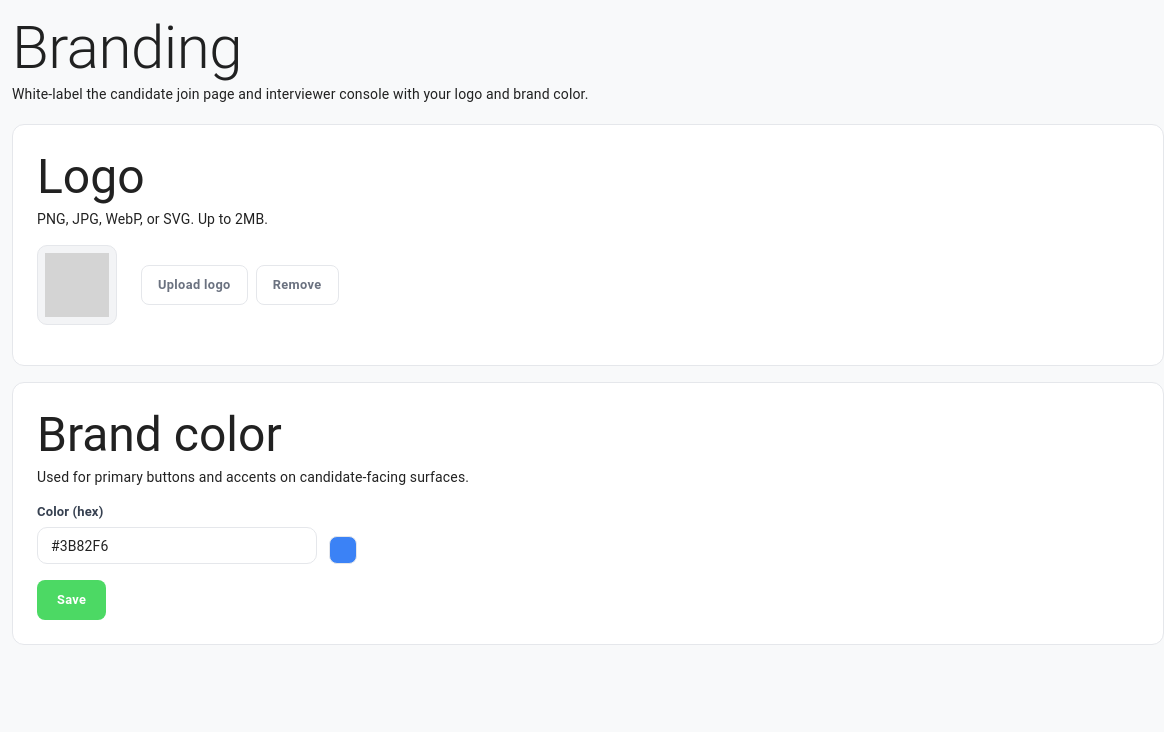
Test: BrandingPage › remove throwing falls back to the default error
This screenshot has width=1164, height=732.
Click the button "Remove": (297, 285) [256, 265, 338, 305]
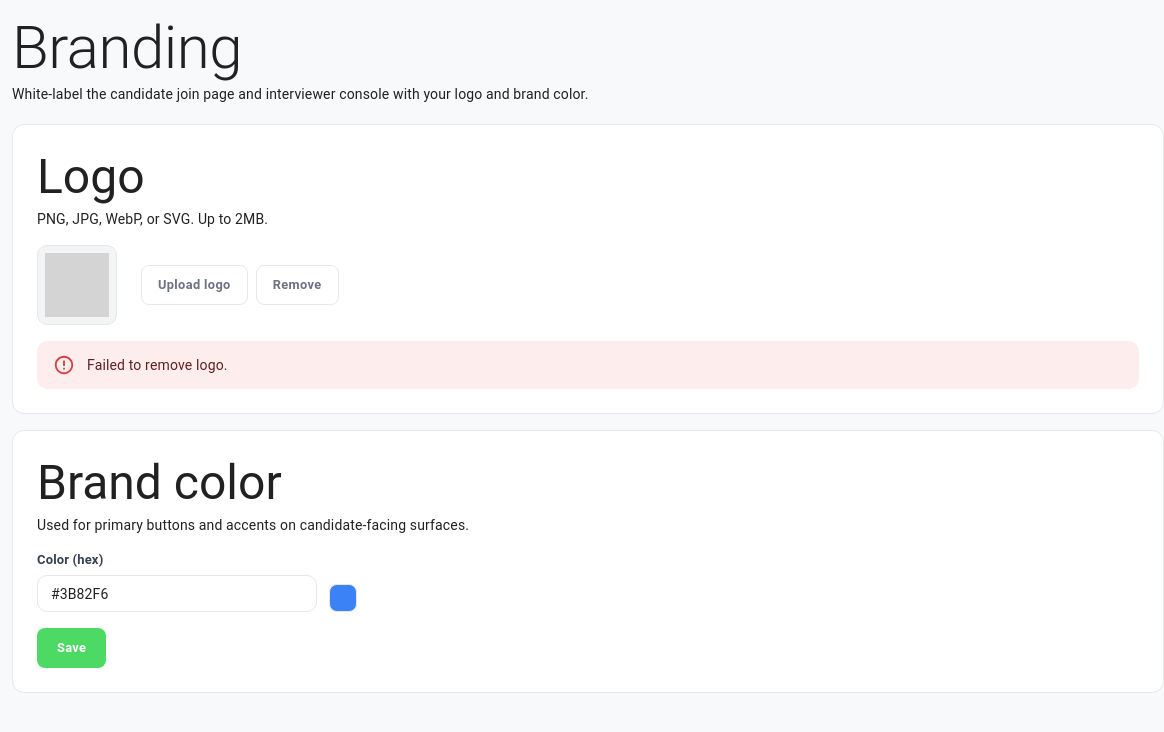
Check: the text "Failed to remove logo." is shown, box [87, 357, 228, 373]
